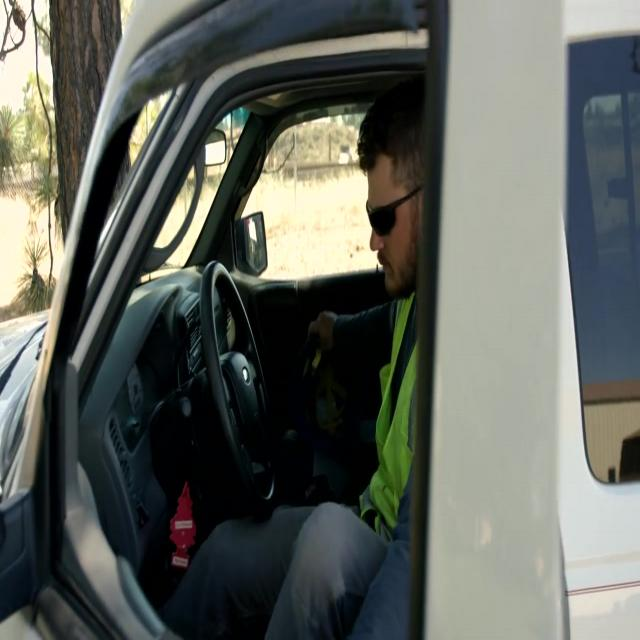Reflective-Jacket: (362, 265, 417, 544)
